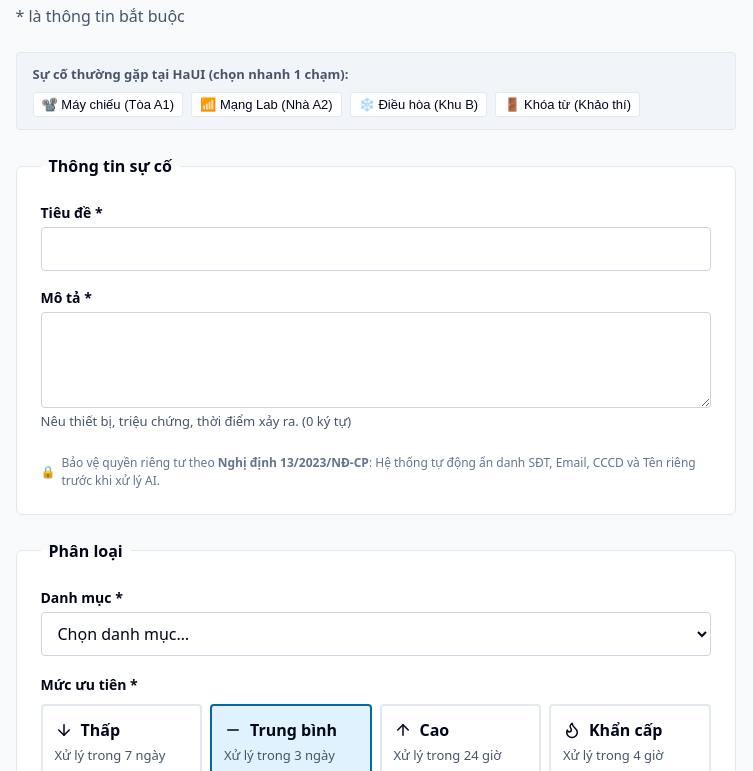
TicketCreate › a single invalid field gets inline error and focus (no summary)
Type "abc" into the field labelled "Tiêu đề *" at (376, 249), box [40,227,710,271]
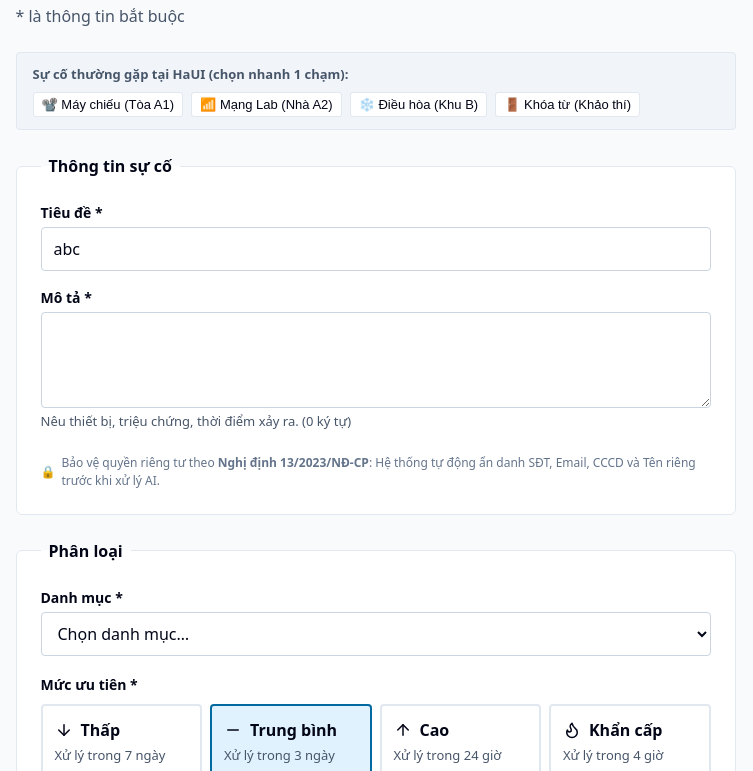
Type "Máy in tầng 2 kẹt giấy từ sáng nay" into the text box labelled "Mô tả *" at (376, 360), box [40,312,710,408]
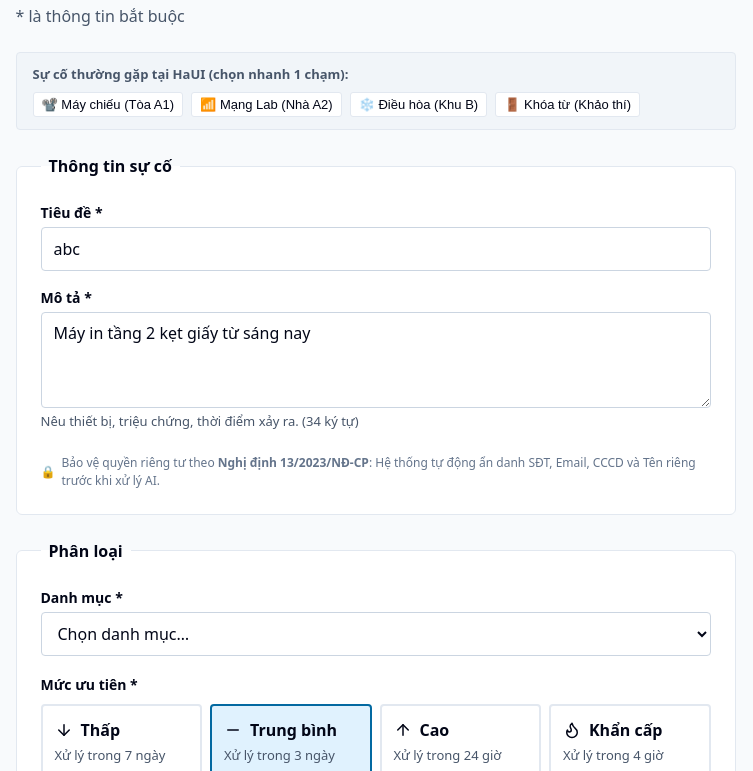
Select "Mạng" in the dropdown labelled "Danh mục *" at (376, 634), box [40,612,710,656]
(page scrolled)
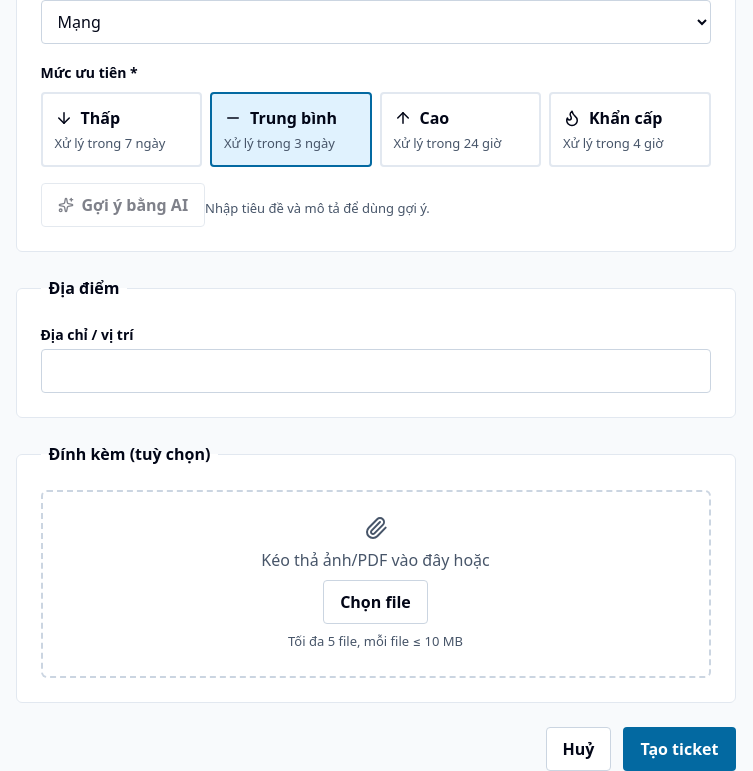
Click the button "Tạo ticket" at (679, 749), box [623,727,736,770]
(page scrolled)
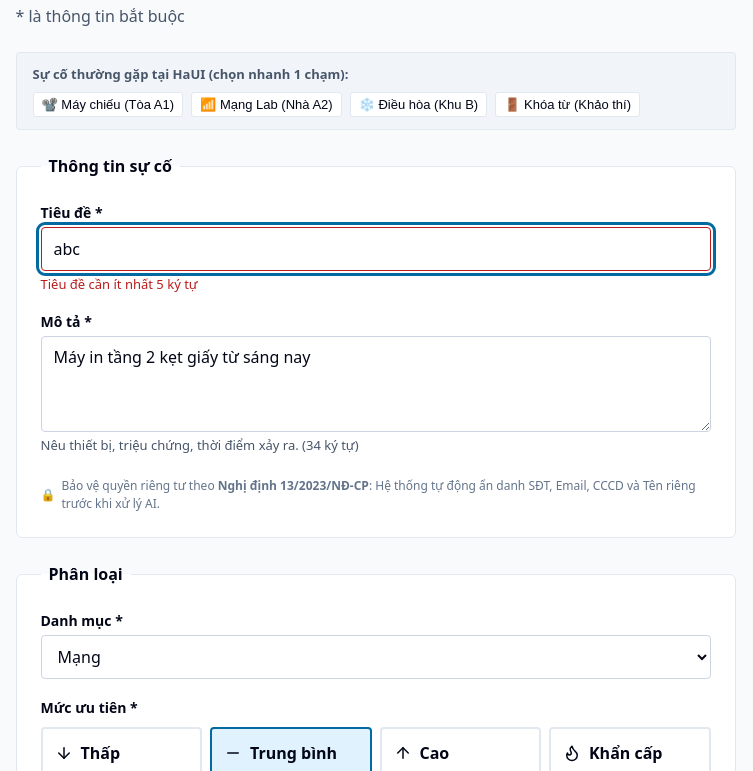
Result: the text "Tiêu đề cần ít nhất 5 ký tự" is shown at [40,275,198,293]
